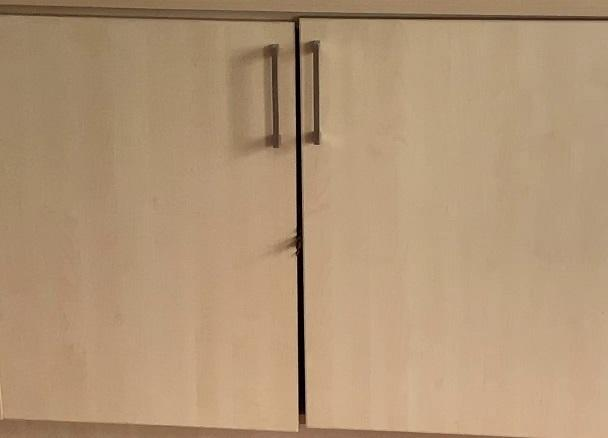cabinet_door: (303, 19, 608, 433), (0, 16, 301, 422)
handle: (258, 42, 287, 153), (304, 39, 331, 147)
